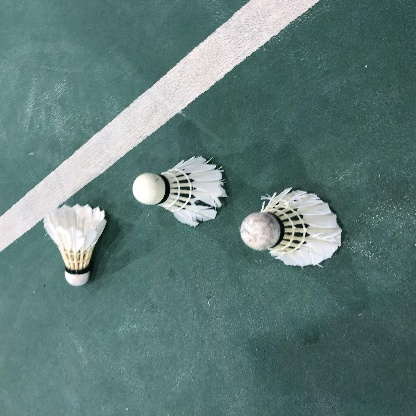ball_single: (240, 187, 342, 267), (132, 156, 227, 227), (43, 204, 106, 286)
